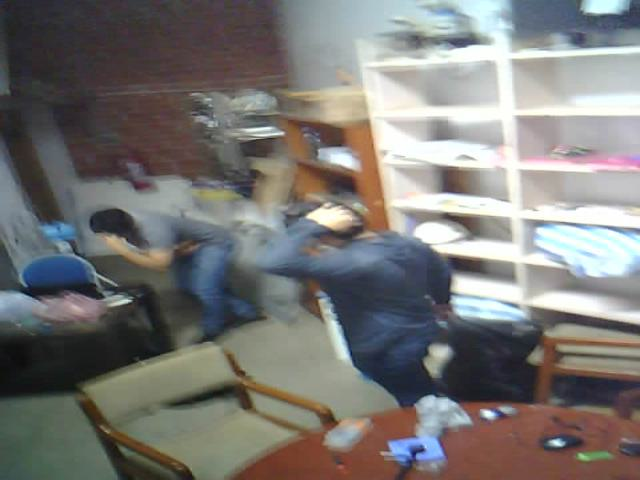person: (248, 179, 475, 429), (67, 173, 271, 349)
